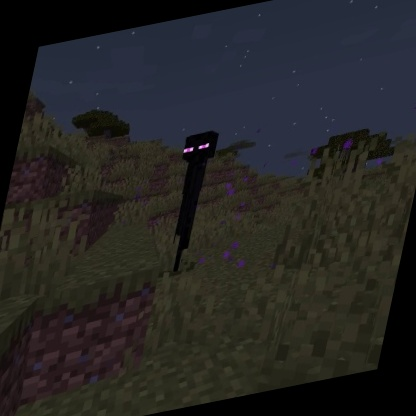enderman: (153, 127, 224, 277)
